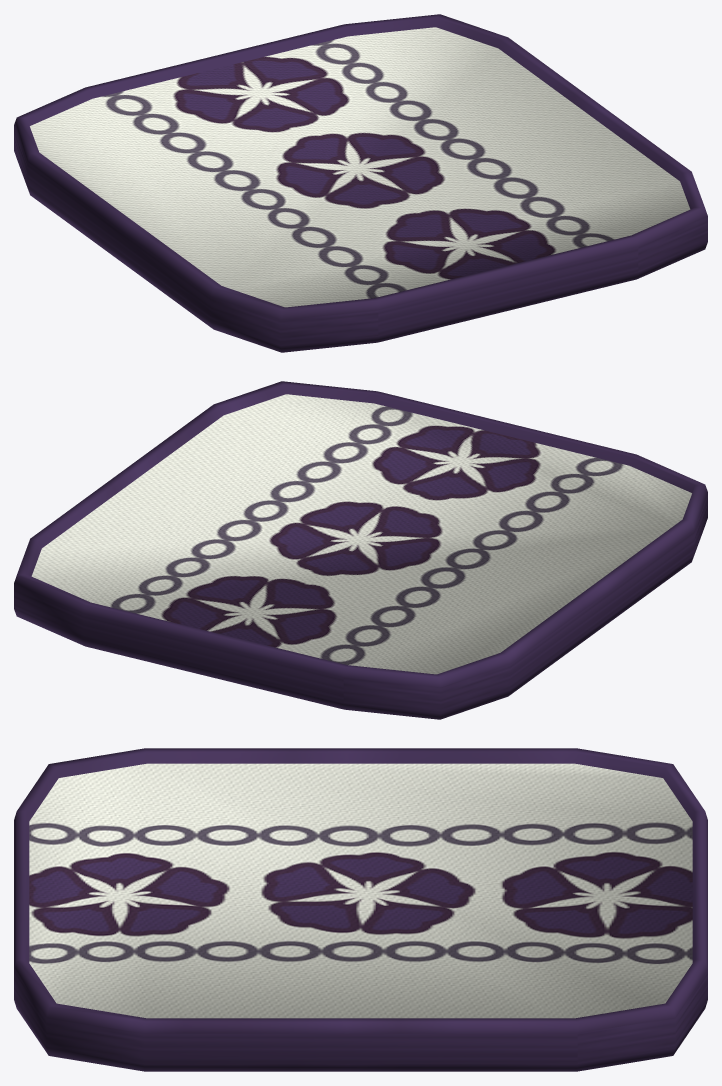
Rendered from Hotpad_E.FBX.
The picture shows the model from 3 angles, top to bottom: view 1: azimuth 30°, elevation 25°; view 2: azimuth 150°, elevation 25°; view 3: azimuth 270°, elevation 25°; orthographic projection. The views are drawn at different scales.
Visible parts, largest first — view 1: Hotpad; view 2: Hotpad; view 3: Hotpad.
Boxes of the visible parts, bbox=[...] form: Hotpad: bbox=[14, 14, 707, 352]; Hotpad: bbox=[14, 381, 707, 719]; Hotpad: bbox=[14, 748, 707, 1071].
Size of the model in its own units: 60.89 by 4.97 by 64.36.
